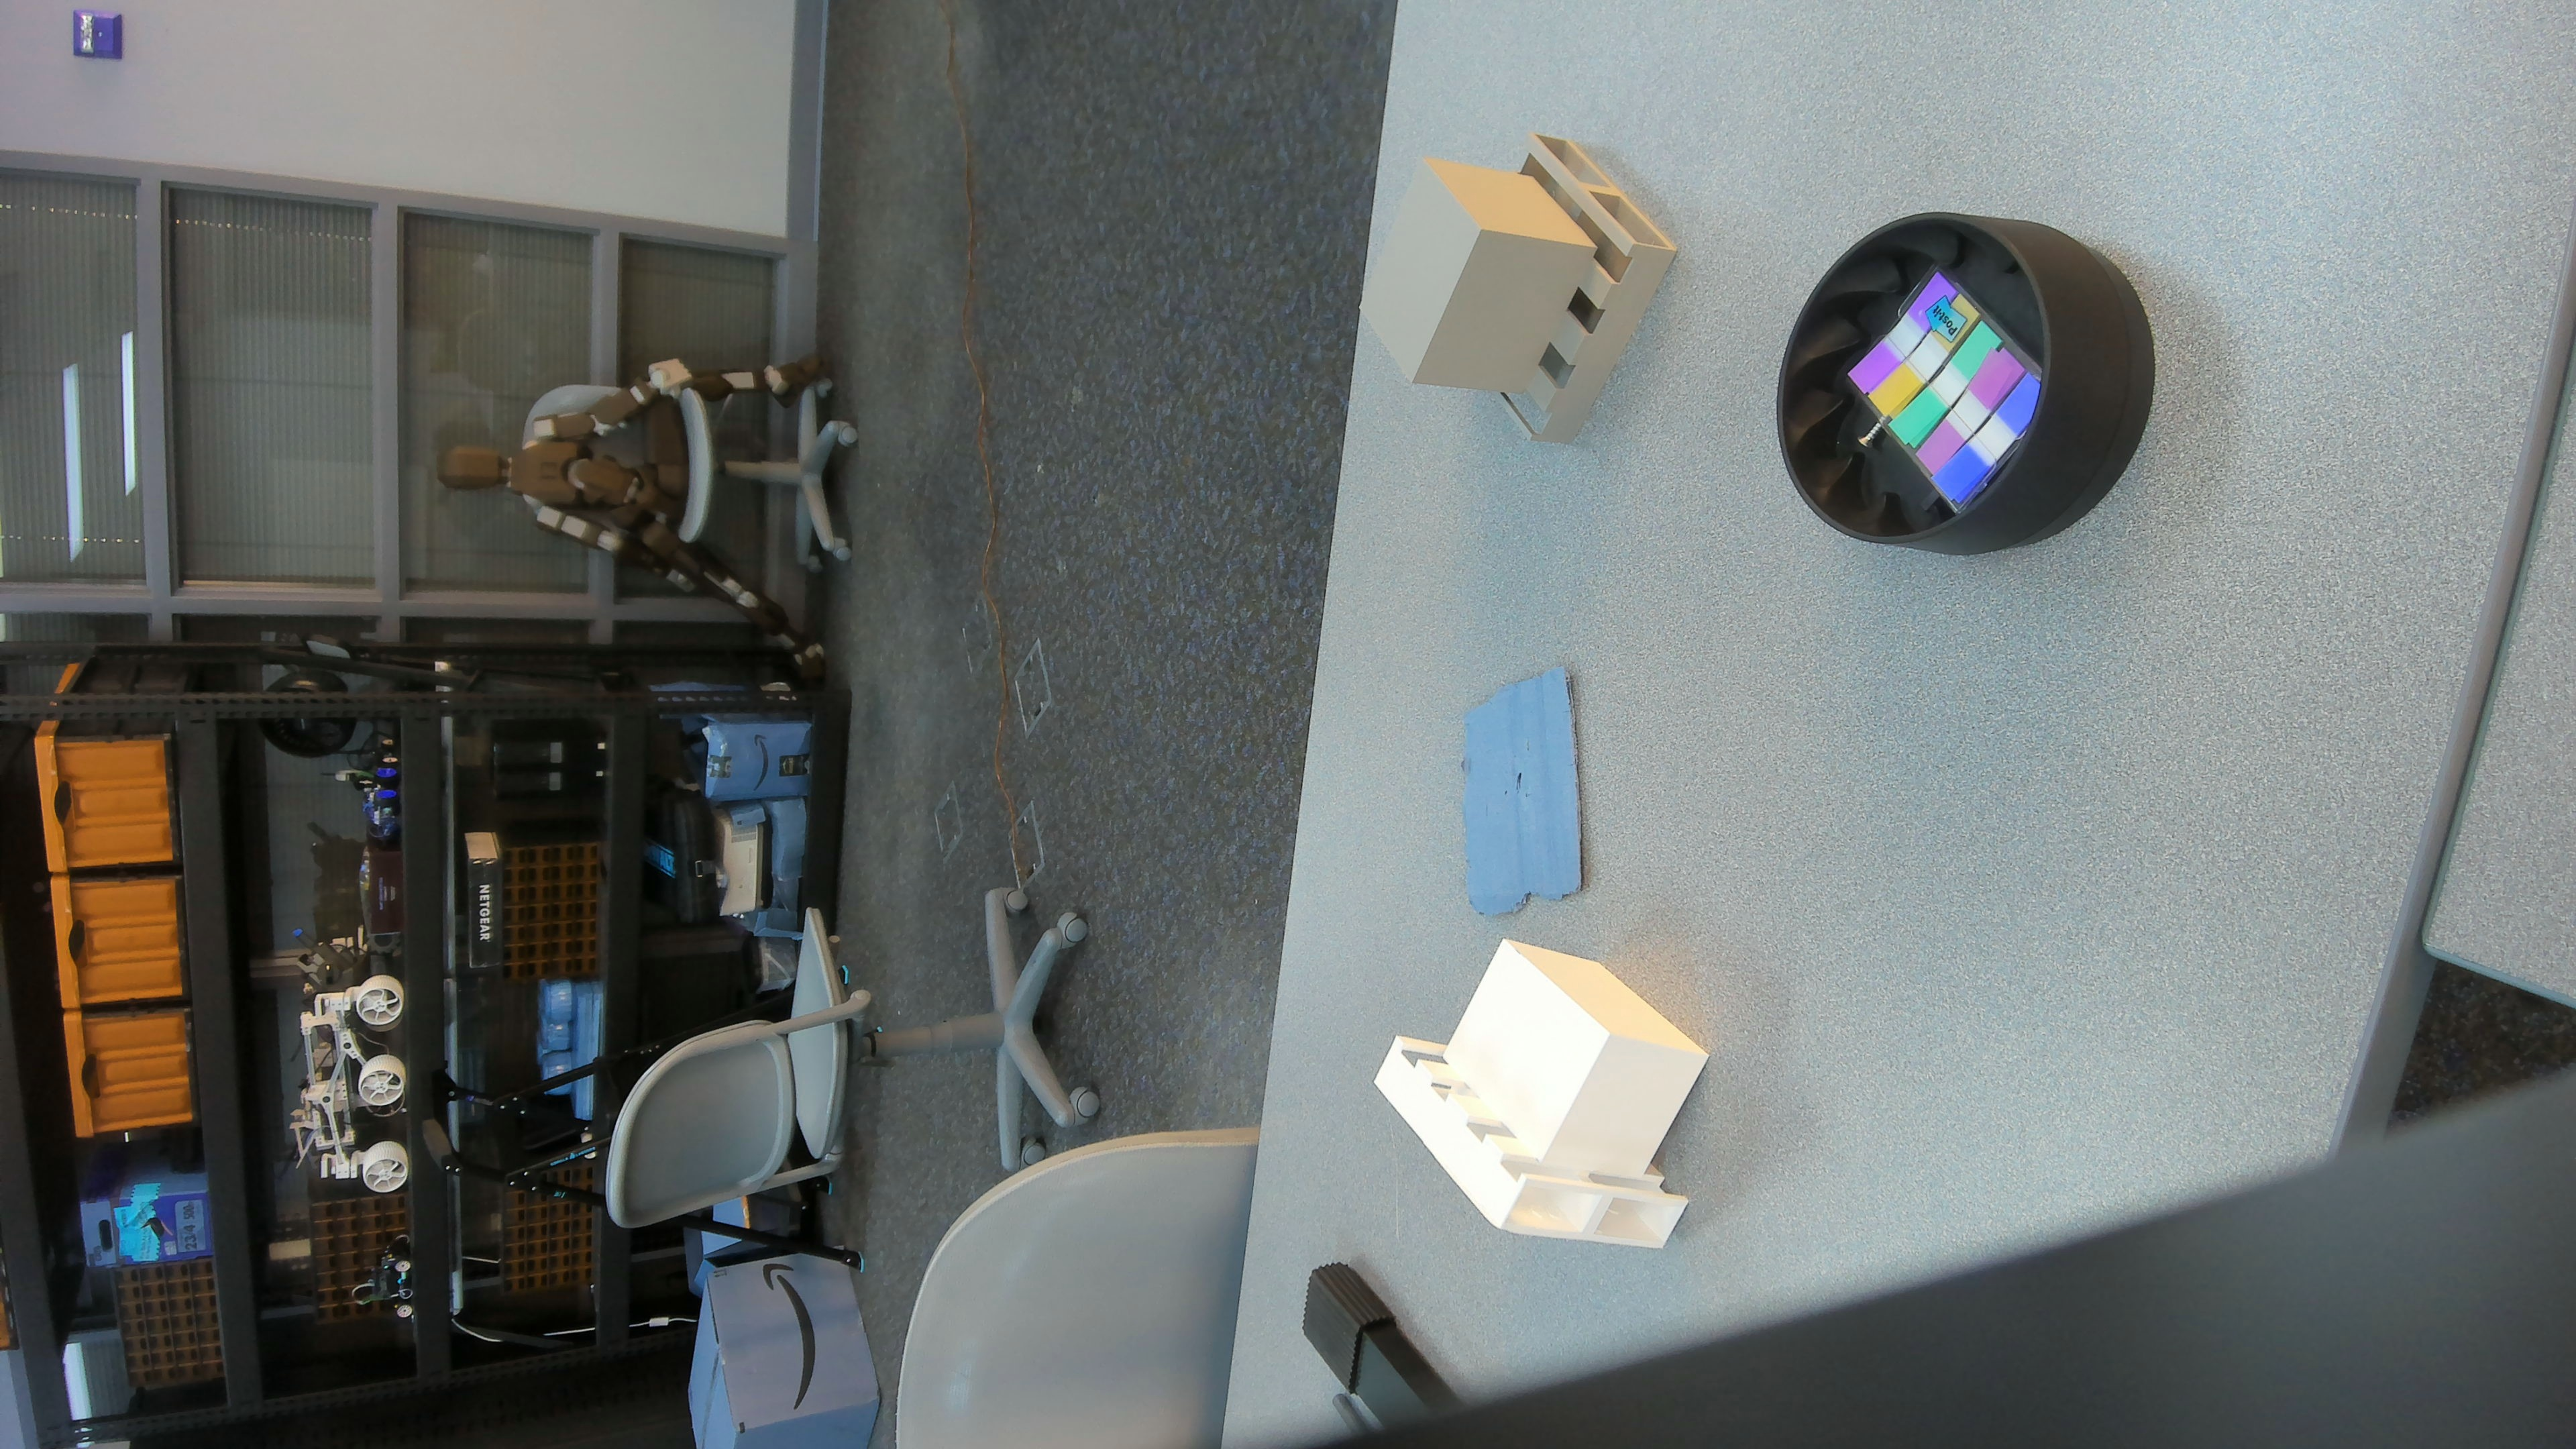grey pallet: (1323, 127, 1684, 458)
white pallet: (1361, 931, 1730, 1276)
